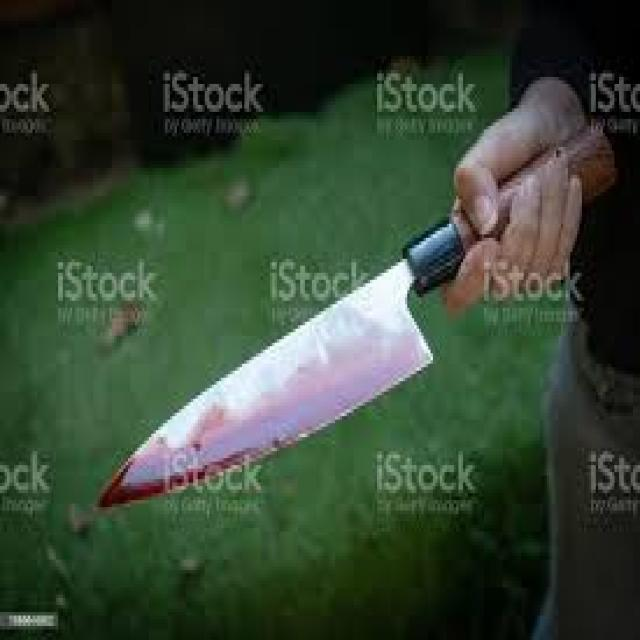faca: (62, 101, 594, 538)
